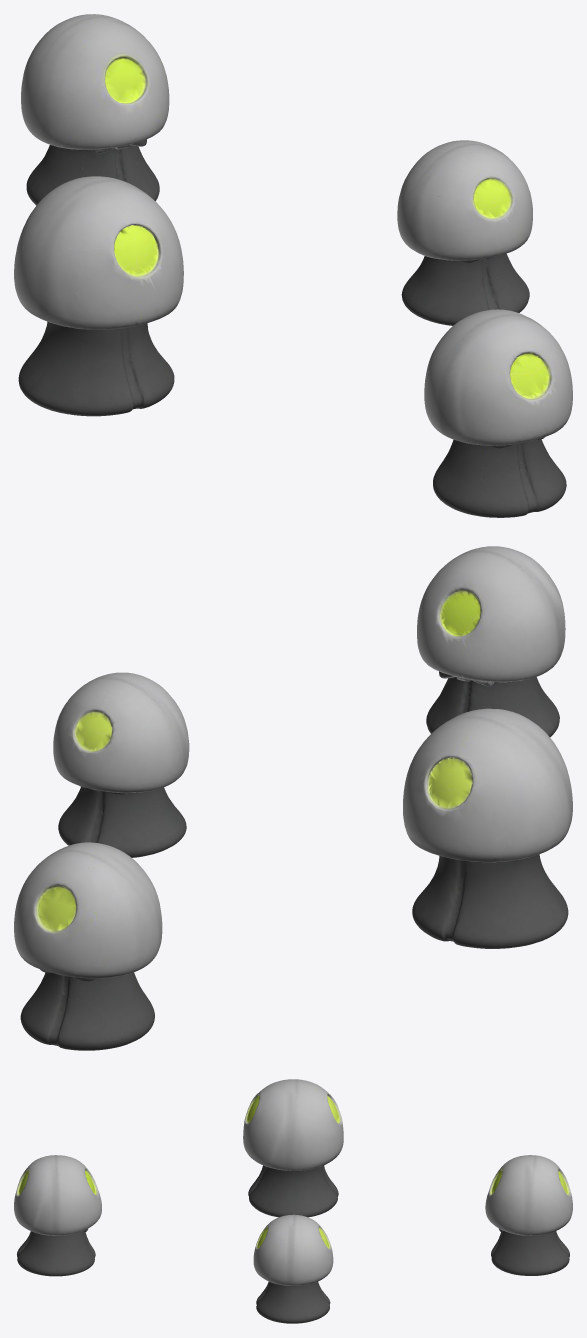
File: eo-004-lumen-moth.glb
The picture shows the model from 3 angles, top to bottom: view 1: azimuth 30°, elevation 25°; view 2: azimuth 150°, elevation 25°; view 3: azimuth 270°, elevation 25°; orthographic projection. The views are drawn at different scales.
Visible parts, largest first — view 1: mesh_node; view 2: mesh_node; view 3: mesh_node.
Part boxes in pixels (x1=…): mesh_node: x1=14, y1=14, x2=572, y2=517; mesh_node: x1=14, y1=546, x2=572, y2=1050; mesh_node: x1=14, y1=1079, x2=572, y2=1323.
Bounding box in the file's own units: 1.15 × 0.4568 × 1.9.
1 material, 1 textured.
